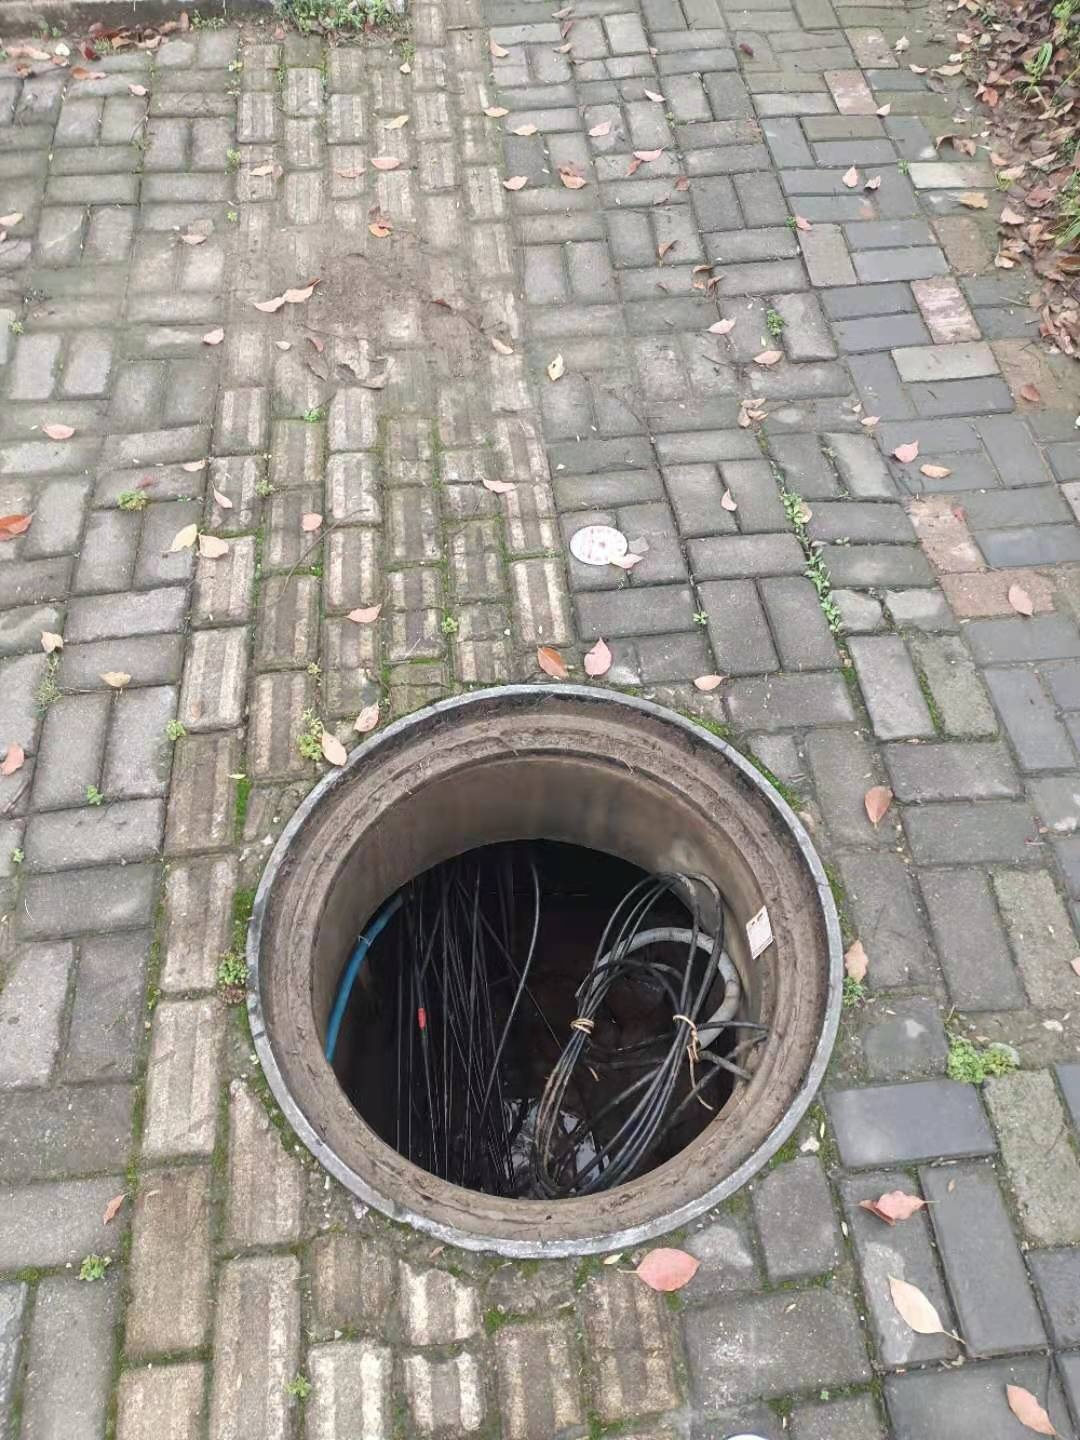lose: (251, 680, 845, 1265)
